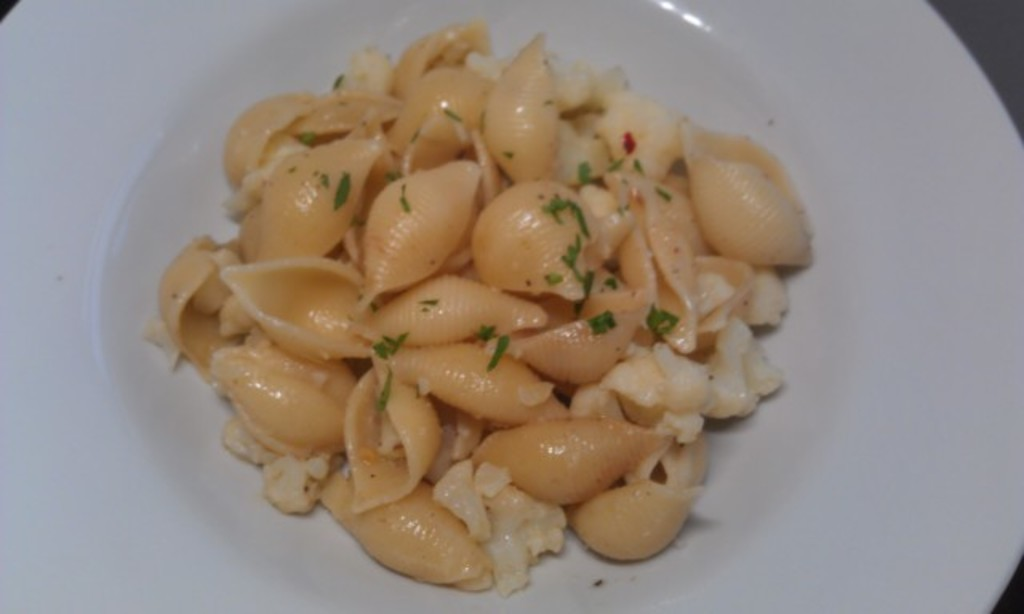pasta: (109, 8, 829, 563)
